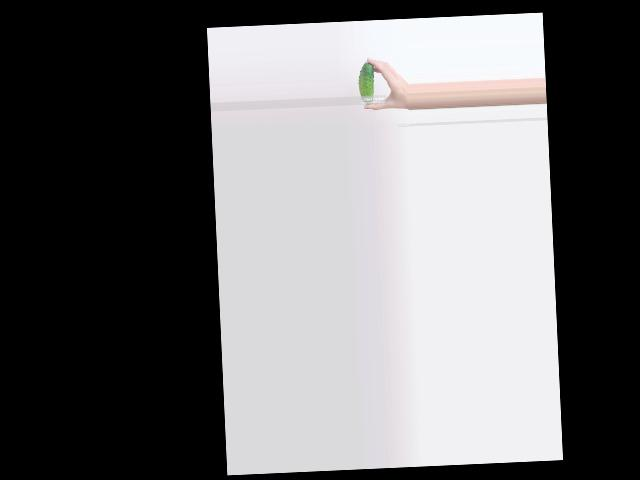cucumber: (357, 62, 375, 105)
